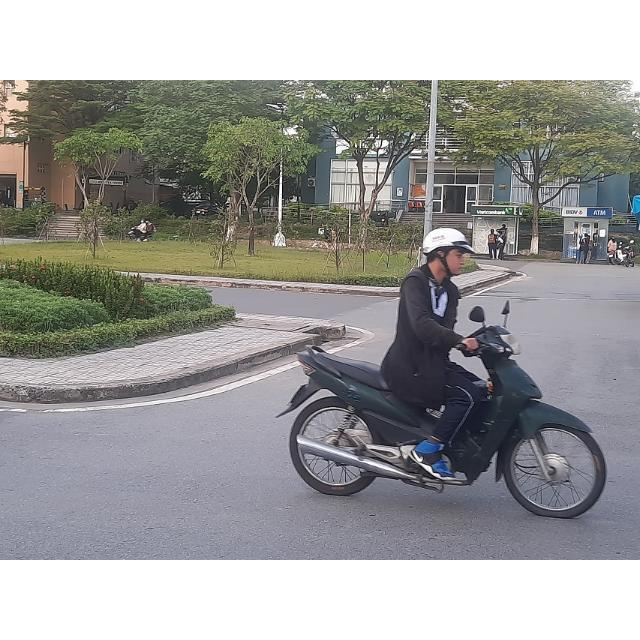Helmet: (420, 226, 474, 278)
